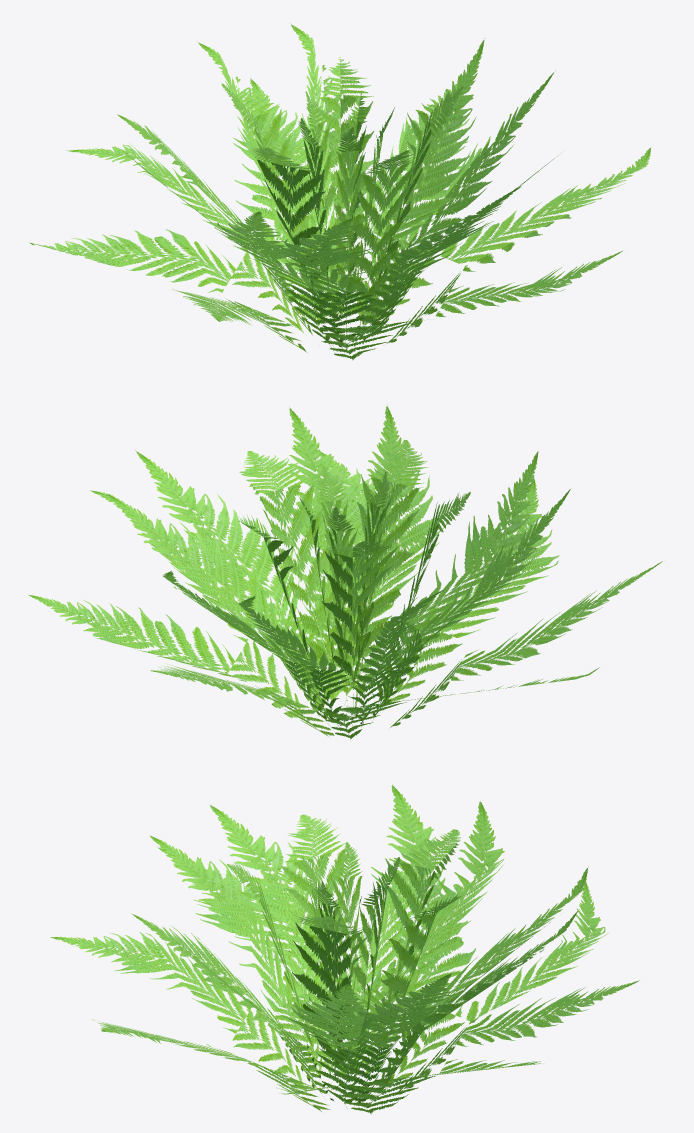
The model's file is fern.glb.
3 views of the same model, one above another, from view 1: azimuth 30°, elevation 25°; view 2: azimuth 150°, elevation 25°; view 3: azimuth 270°, elevation 25° (orthographic).
Visible parts, largest first — view 1: Fern; view 2: Fern; view 3: Fern.
Part boxes in pixels (<box>): Fern: <box>29,23,650,360</box>; Fern: <box>28,404,662,739</box>; Fern: <box>50,784,639,1114</box>.
Size of the model in its own units: 1.35 by 0.5273 by 1.34.
Materials: 1 (1 with a texture image).
